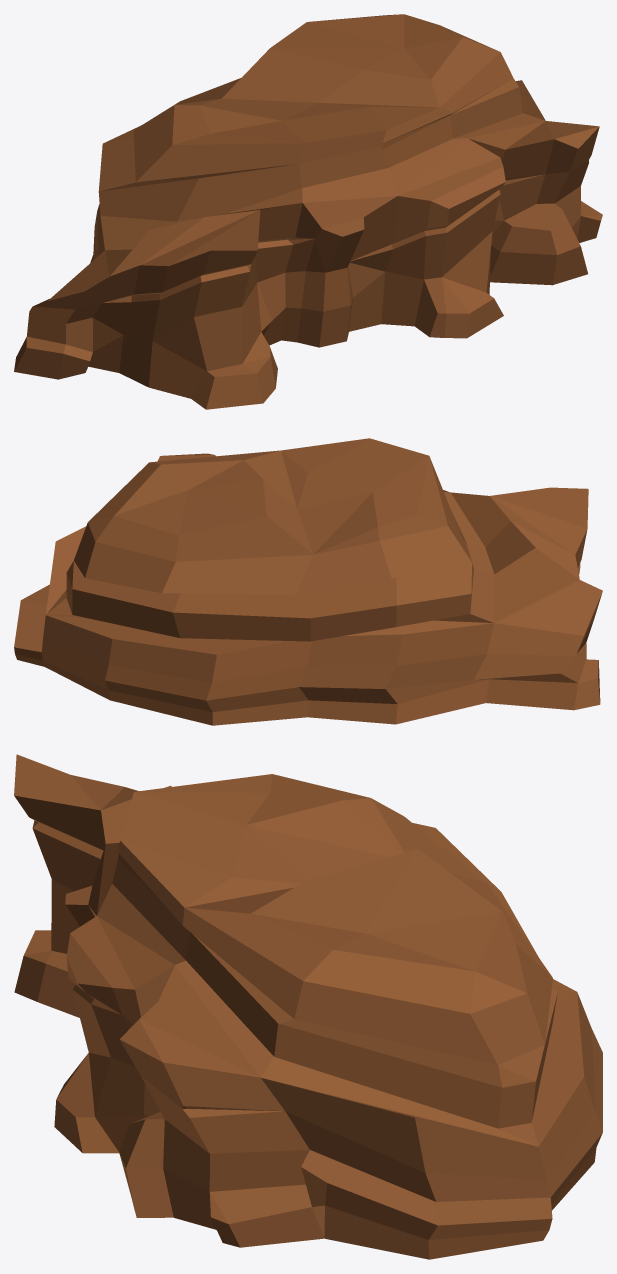
Rendered from polybeach_cliff02.fbx.
3 renders of one model, top to bottom at view 1: azimuth 30°, elevation 25°; view 2: azimuth 150°, elevation 25°; view 3: azimuth 270°, elevation 25°, orthographic. The views are drawn at different scales.
Visible parts, largest first — view 1: cliff_01; view 2: cliff_01; view 3: cliff_01.
Boxes of the visible parts, x1,y1,x2,y2 form: cliff_01: (14,14,602,409); cliff_01: (14,438,602,725); cliff_01: (14,754,602,1259).
Bounding box in the file's own units: 24.02 × 7.8 × 16.1.
